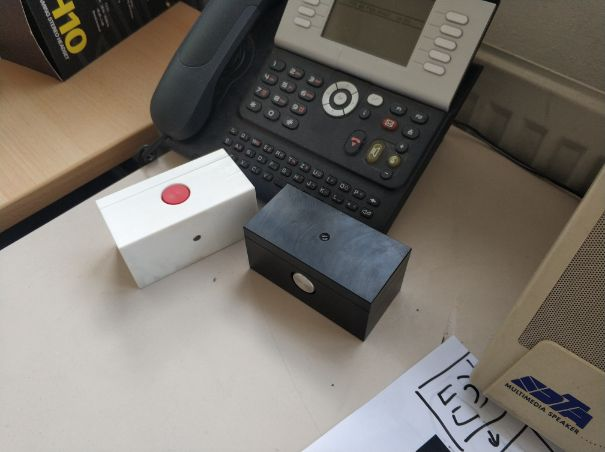black+black+silver: (243, 180, 414, 349)
white+white+red: (90, 146, 262, 292)
